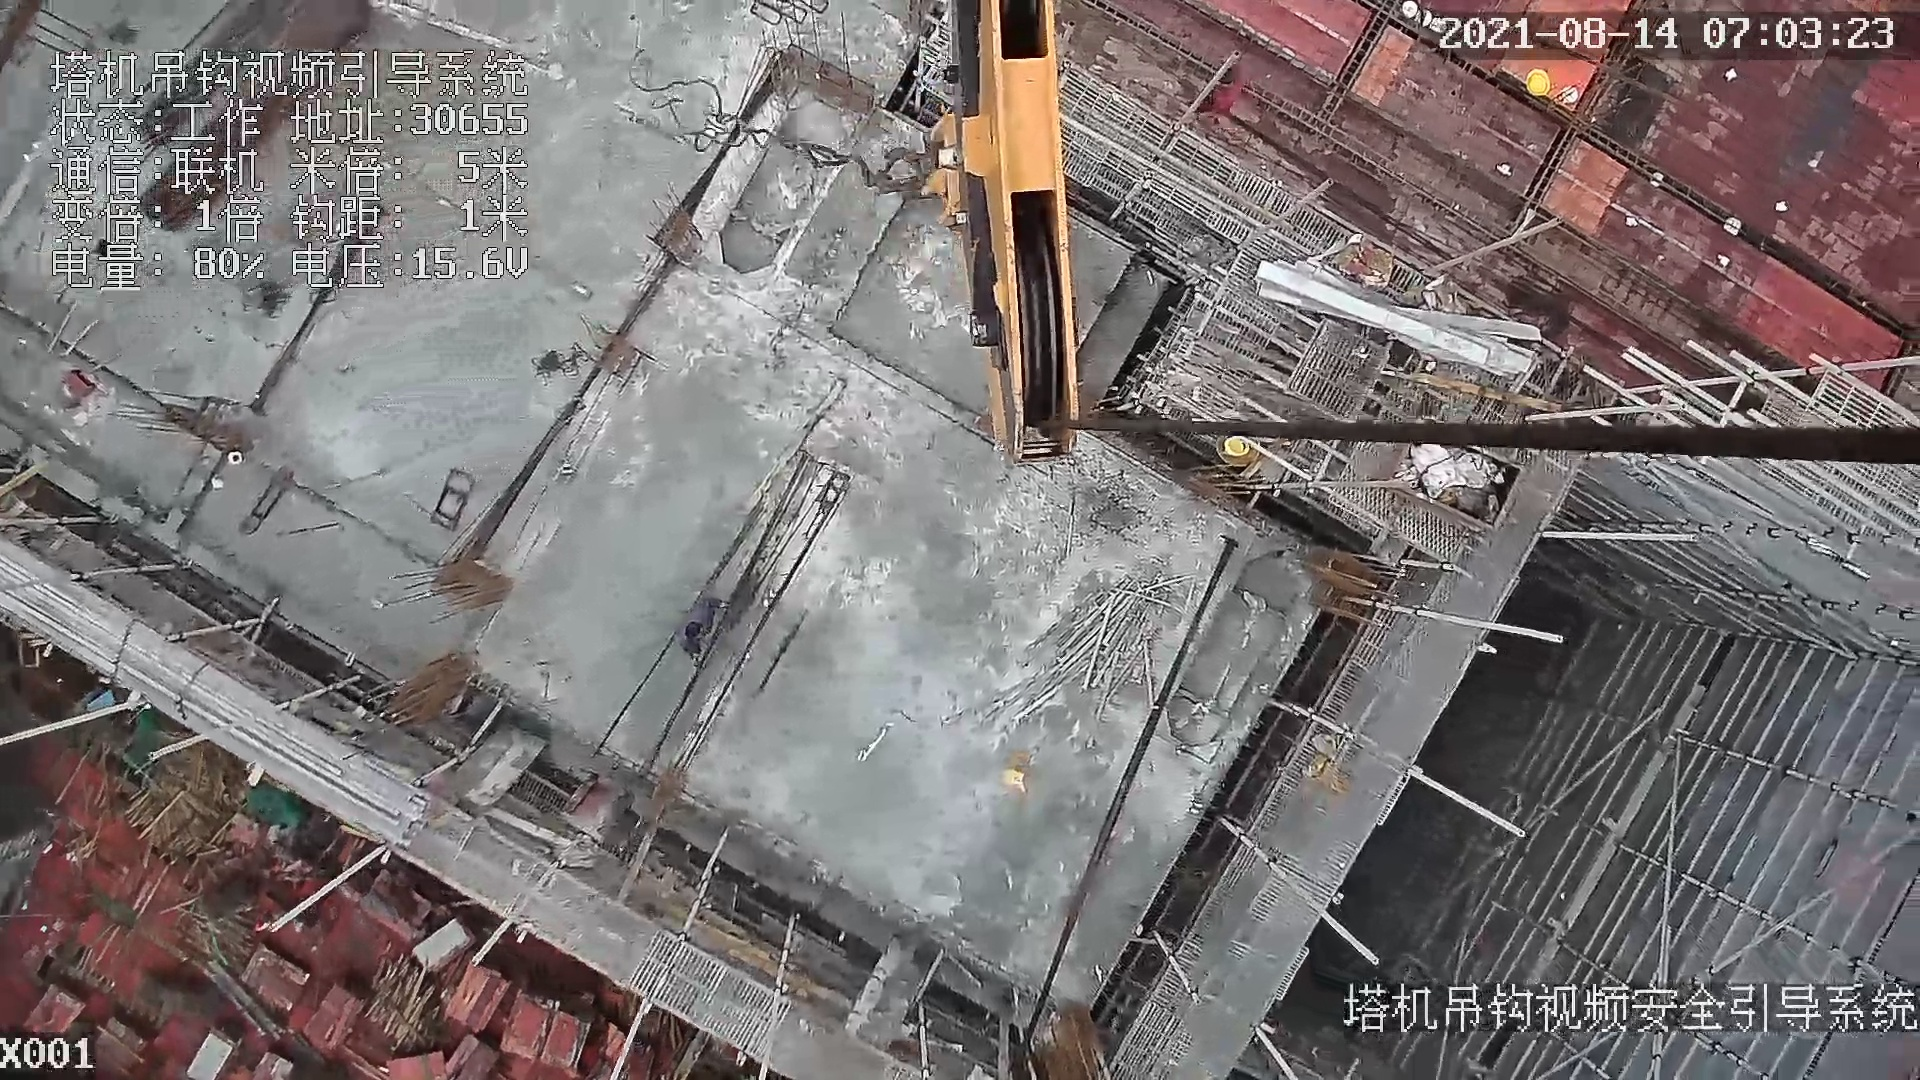helmet: (1524, 67, 1552, 98)
hook: (909, 1, 1087, 467)
person: (678, 589, 723, 663), (1199, 65, 1240, 120)
